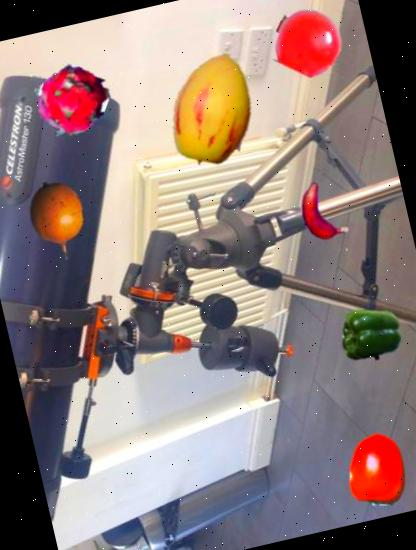Banana: (282, 176, 356, 250)
Granadilla: (9, 172, 105, 268)
Kaki: (333, 425, 416, 513)
Pepino: (144, 40, 281, 177)
Pepper: (333, 296, 409, 372)
Pitahaya: (25, 57, 113, 146)
Redcurrant: (267, 1, 349, 82)
